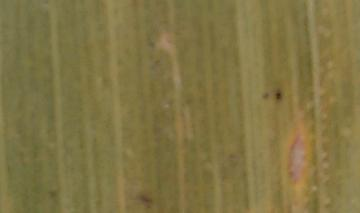tarspot: (136, 193, 152, 210), (274, 89, 282, 100), (261, 91, 269, 100)
